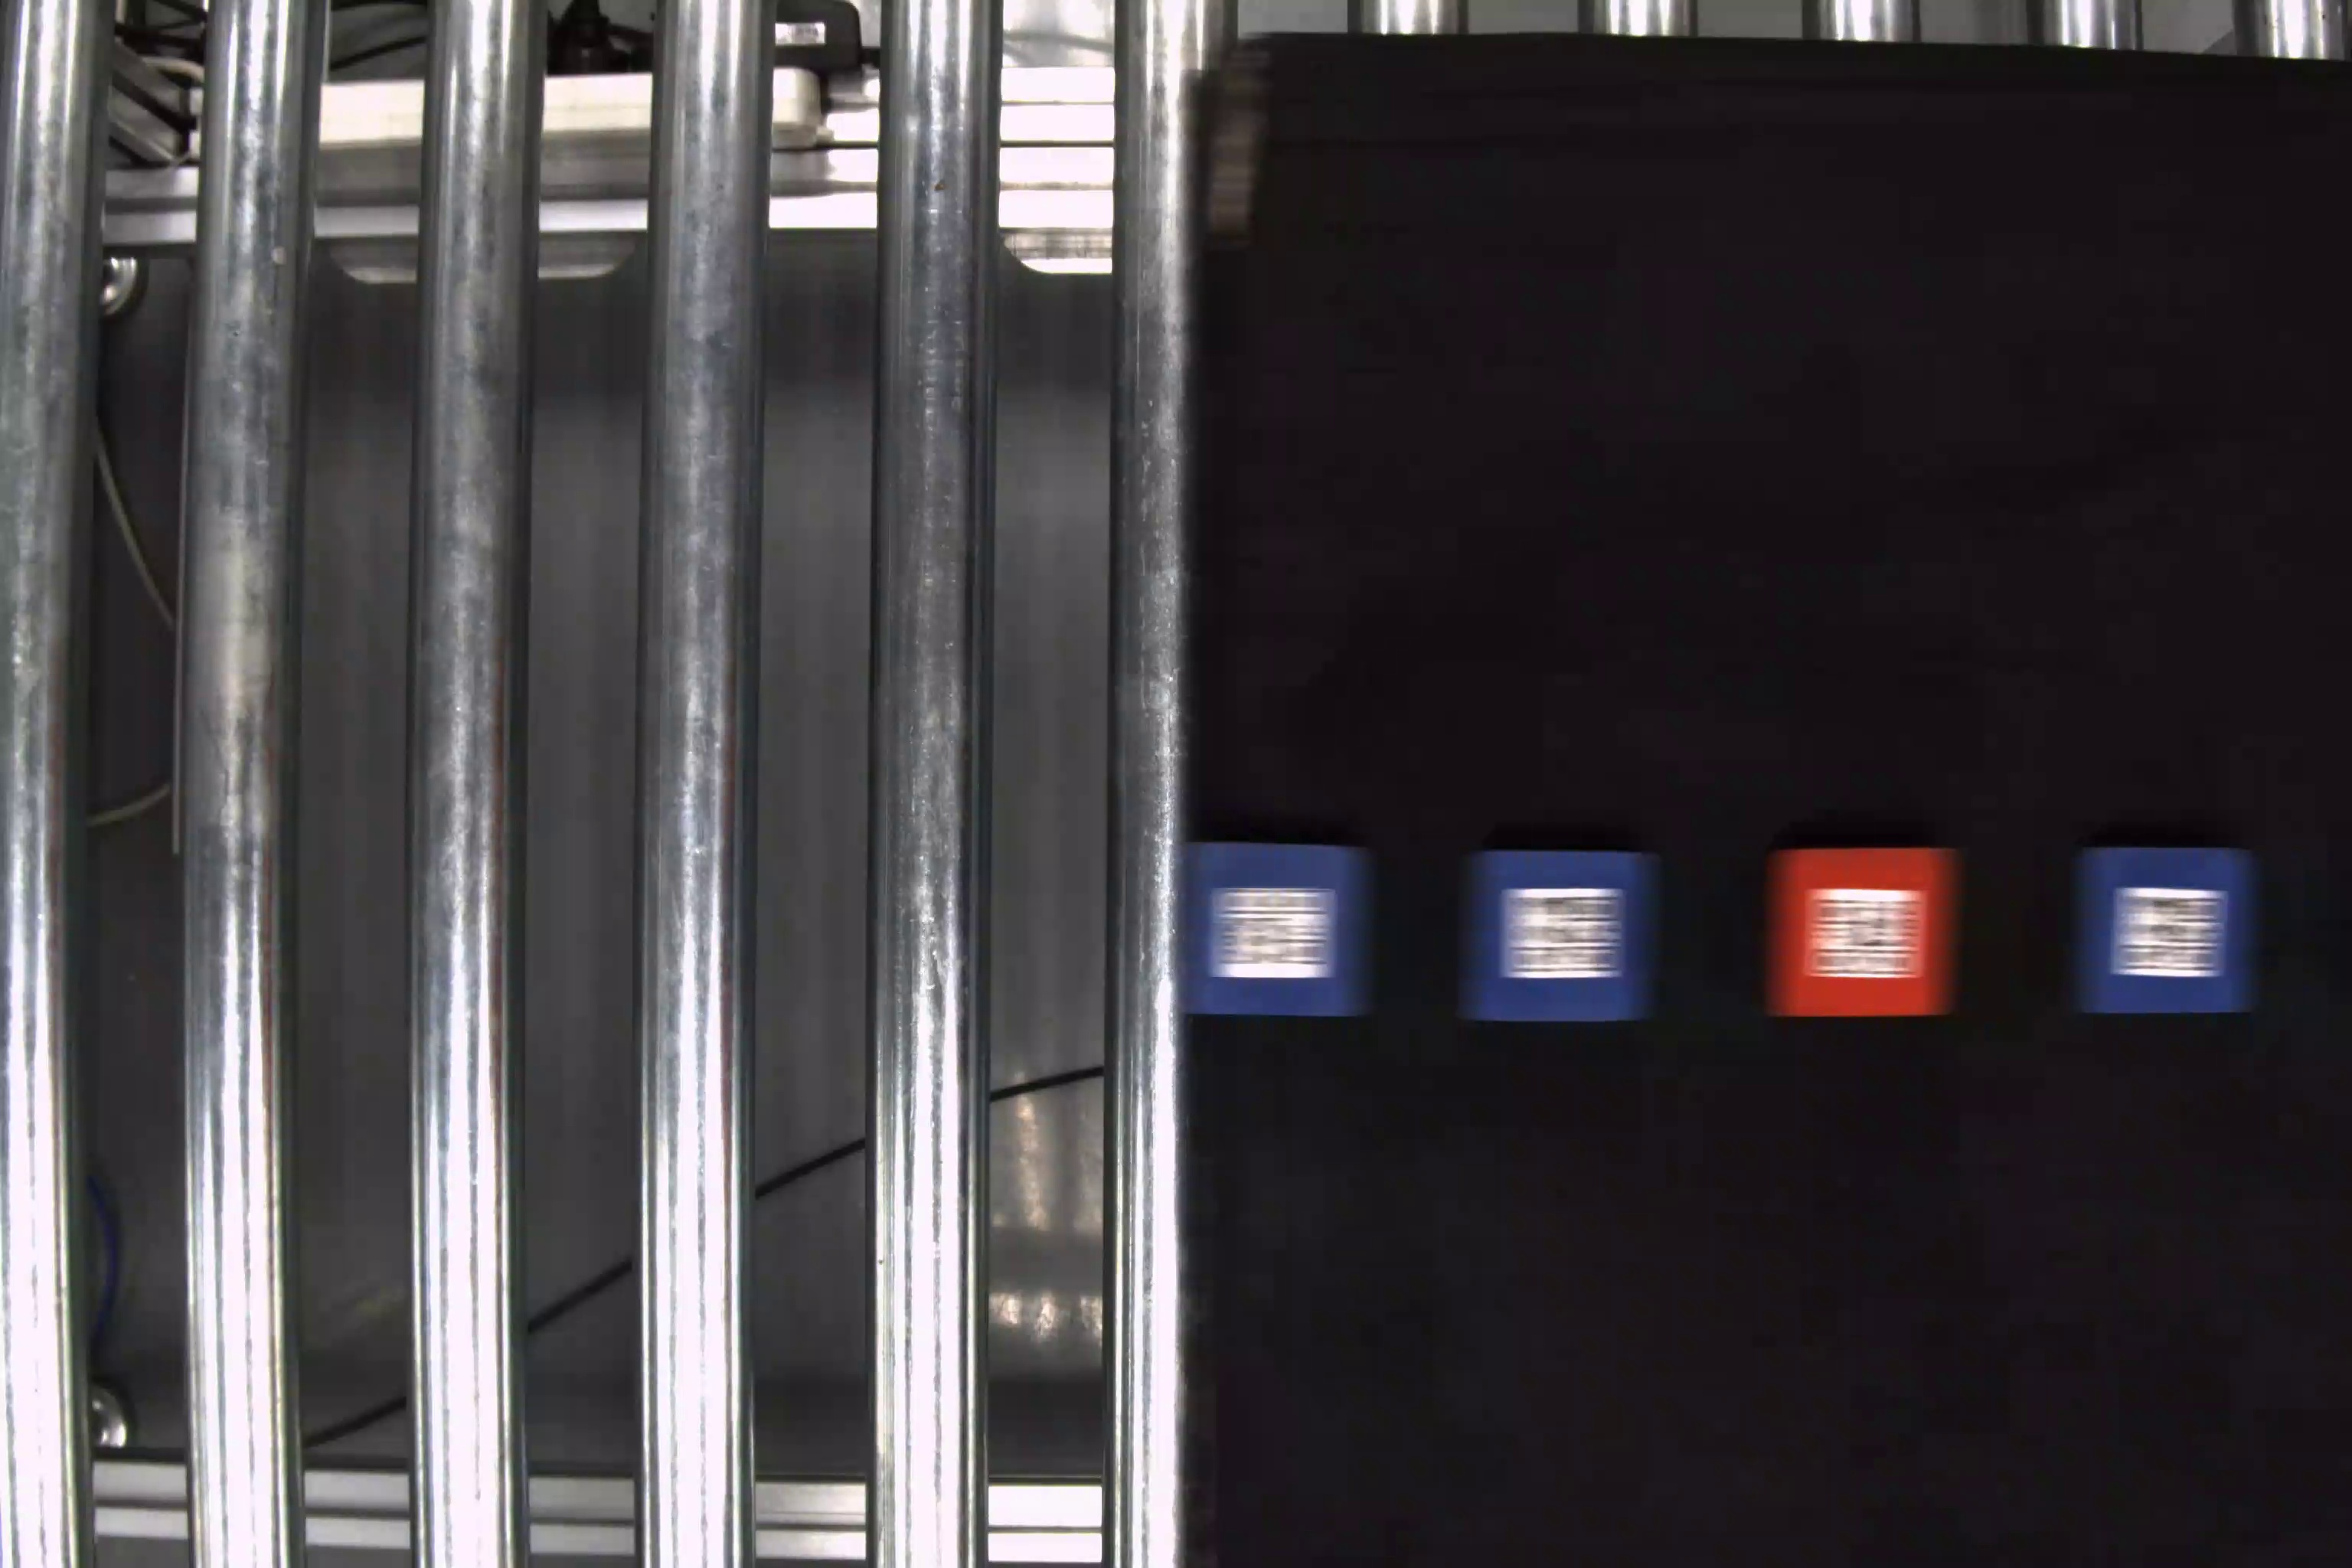wood: (1174, 842, 1386, 1018), (1458, 845, 1659, 1025), (1764, 843, 1967, 1022), (2072, 842, 2263, 1018)
